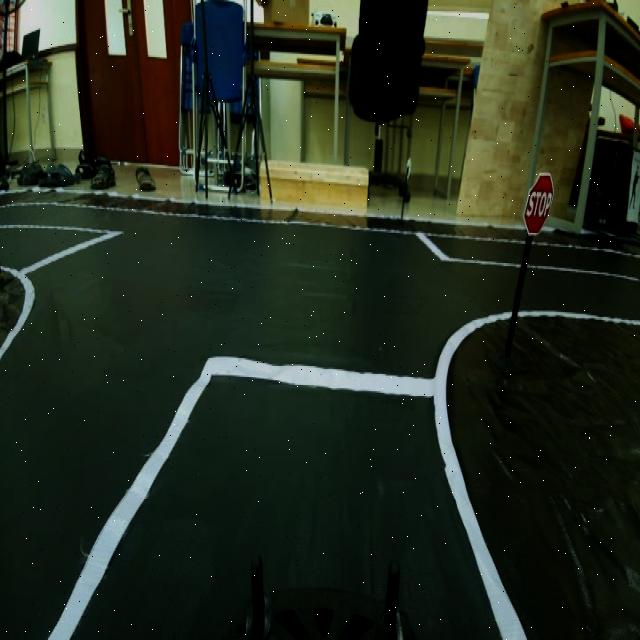stop: (518, 161, 558, 246)
